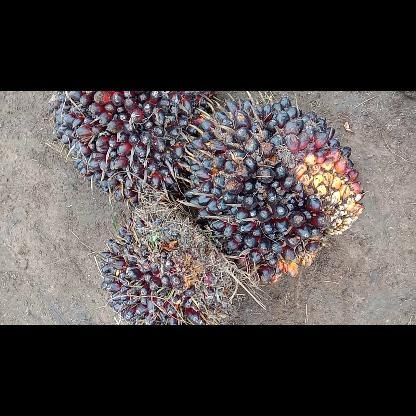TBS mentah: (176, 96, 366, 286), (44, 90, 222, 208), (96, 202, 240, 324)
